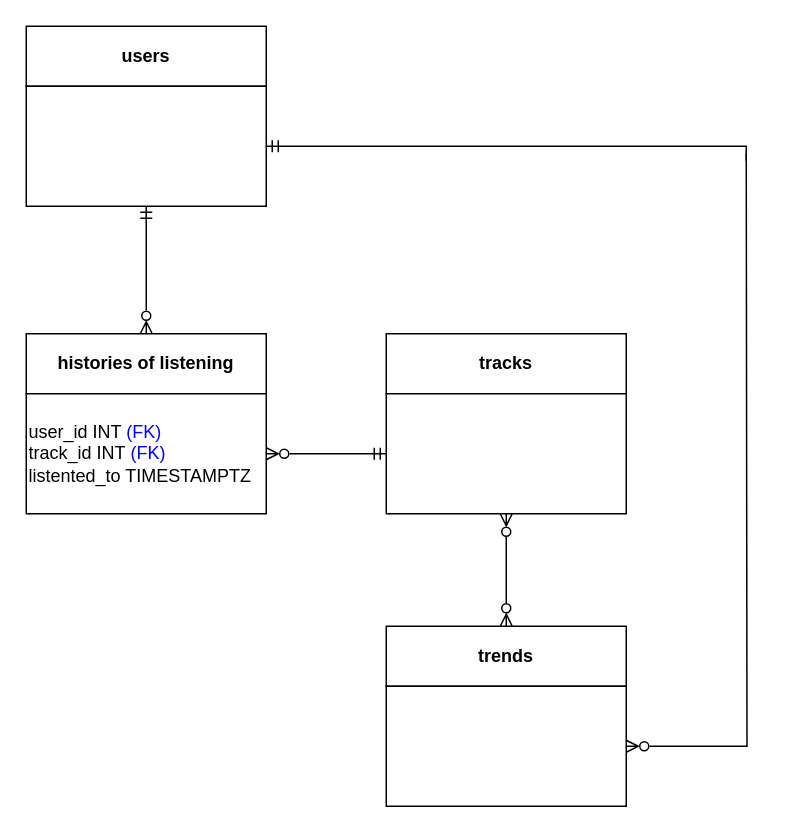
Image size: 786x833. Some labels were removed from this diagram. Each missing label, with the centre of its shape:
"track1_id INT (FK) ... track20_id INT (FK) month TIMESTAMPTZ user_id INT (FK)" goes at point 505,745.
"track_id INT (PK) name VARCHAR album VARCHAR artist VARCHAR" goes at point 505,453.
"user_id INT (PK) username VARCHAR email VARCHAR" goes at point 145,145.
